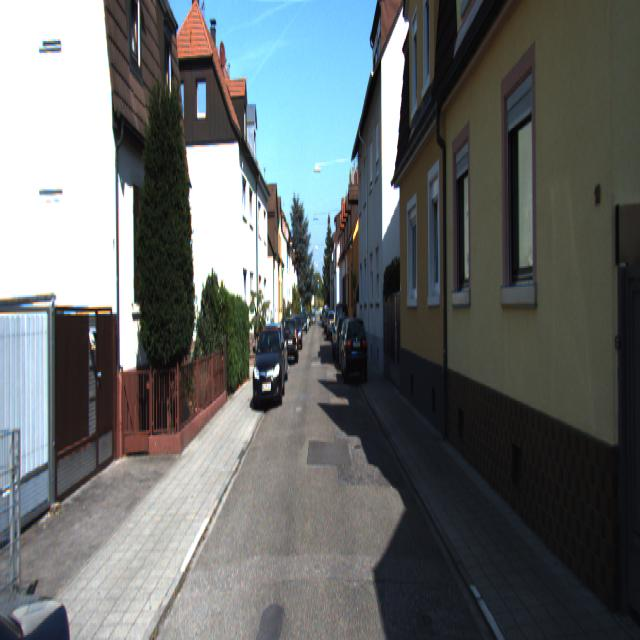Car: (252, 324, 284, 410), (341, 313, 369, 387), (283, 315, 299, 363)
